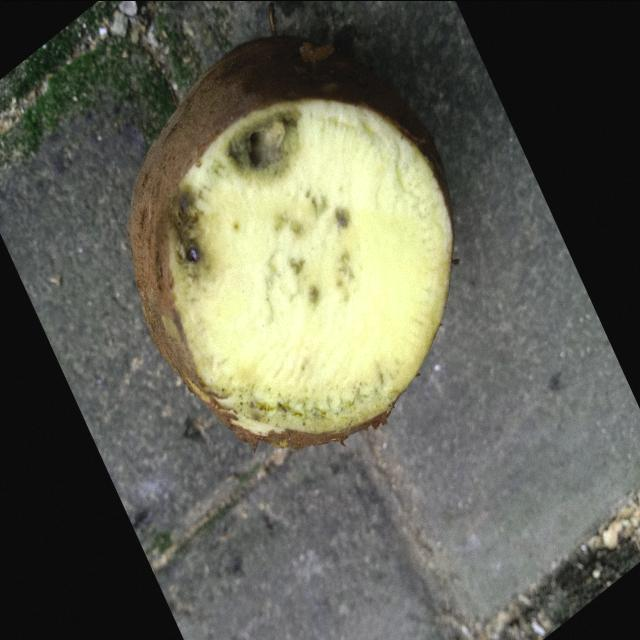Sick Sweet Potato_Tuber Rot: (169, 98, 452, 442)
